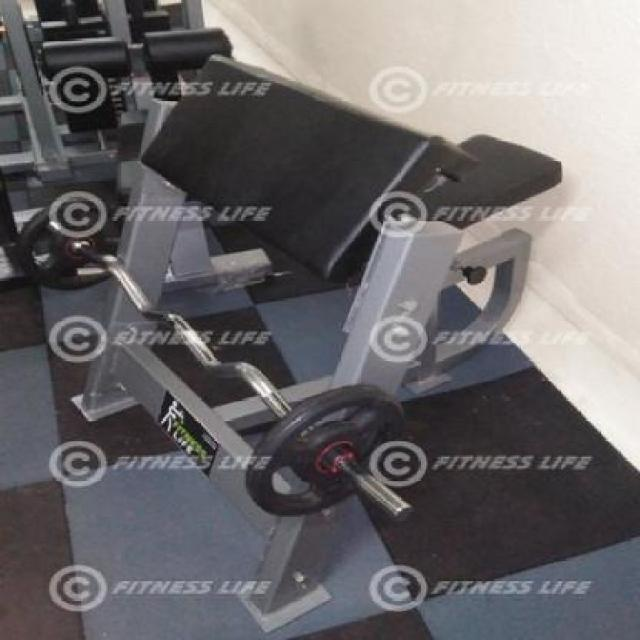arm curl machine: (20, 55, 563, 634)
